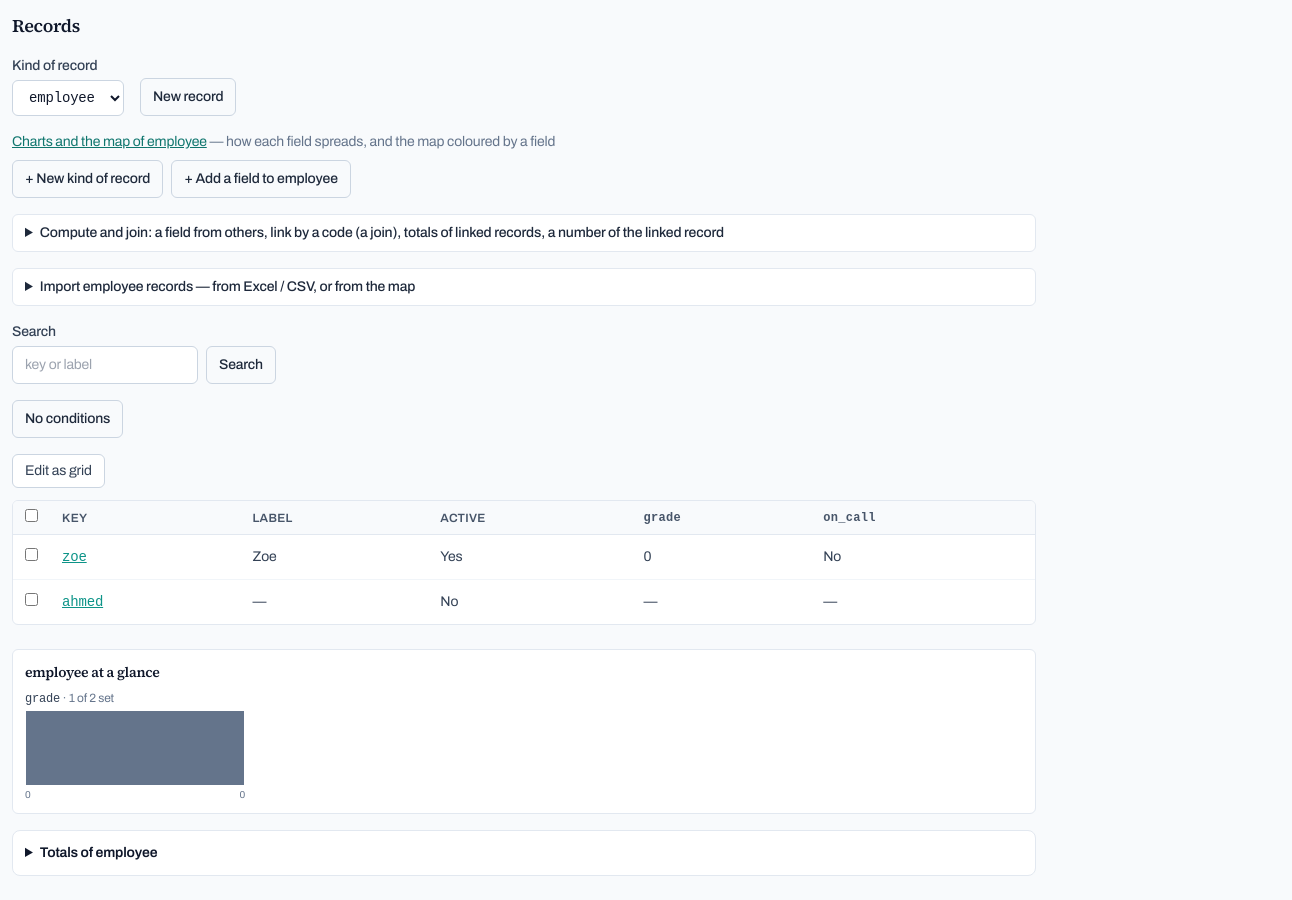
Test: Entities: deleting several at once (benchmark, October 2026) › deletes the ticked records in one request, after asking
Expected: the link "zoe" is shown, [62,549,87,565]
Click the checkbox named "Select every record on this page". click: click(32, 516)
box: [25,509,38,522]
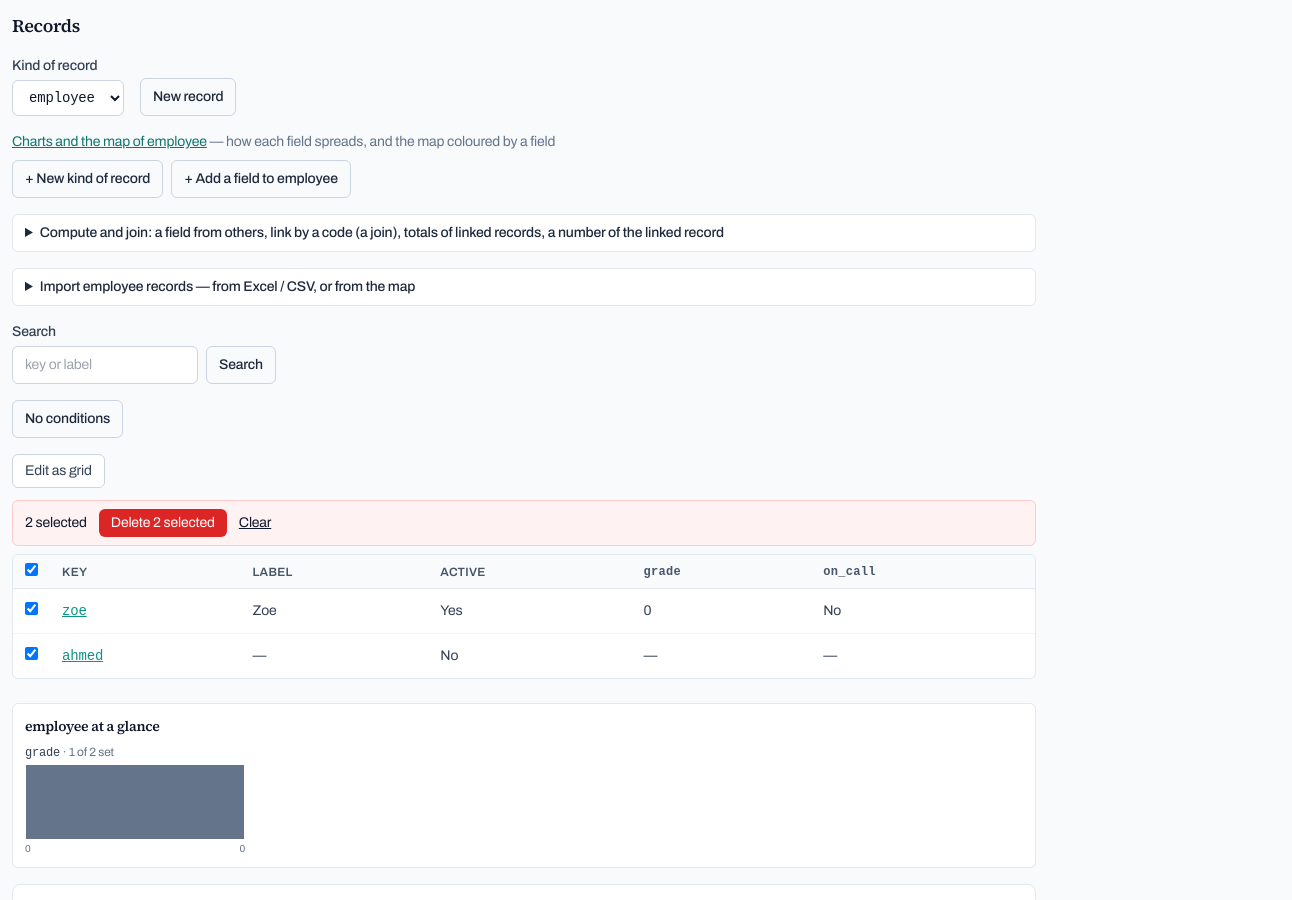
Click the button "Delete 2 selected". click: click(163, 523)
box: [99,509,227,537]
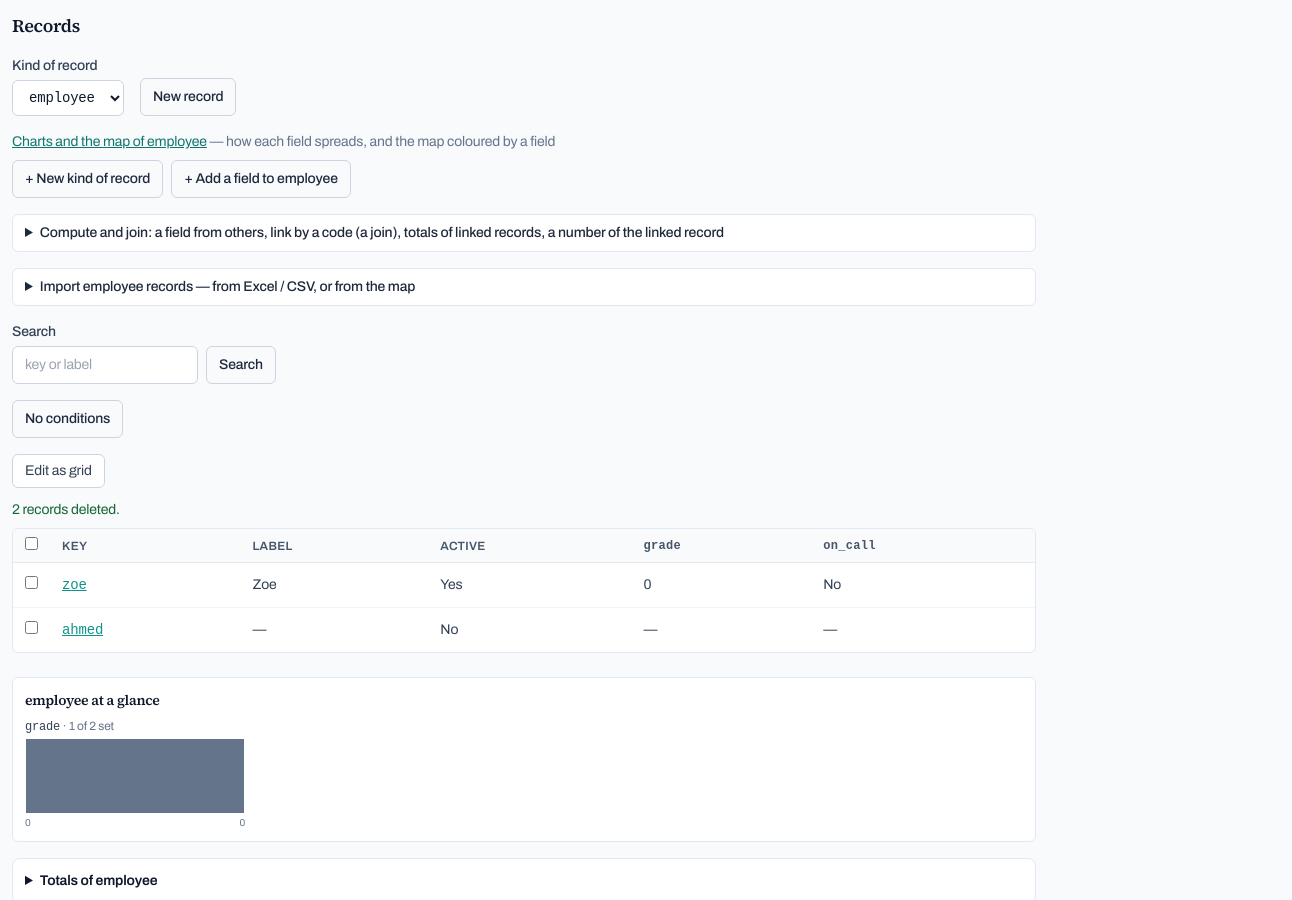
Result: the text "2 records deleted." is shown at [12,502,120,517]
